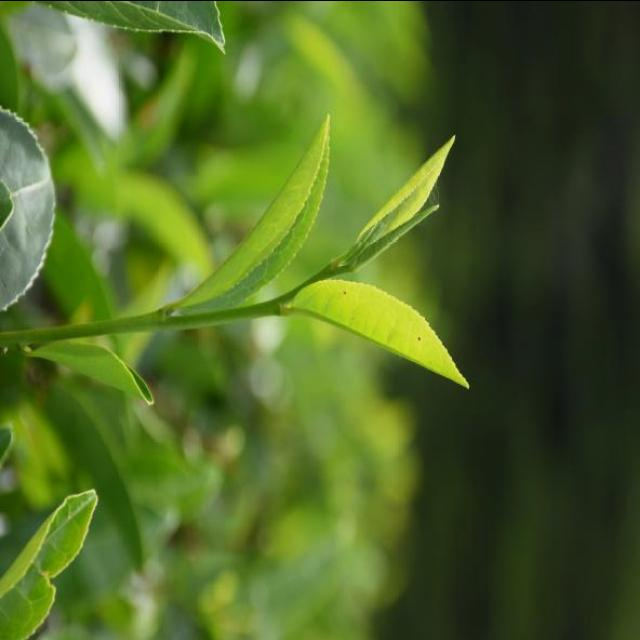Stem: (261, 301, 282, 314)
